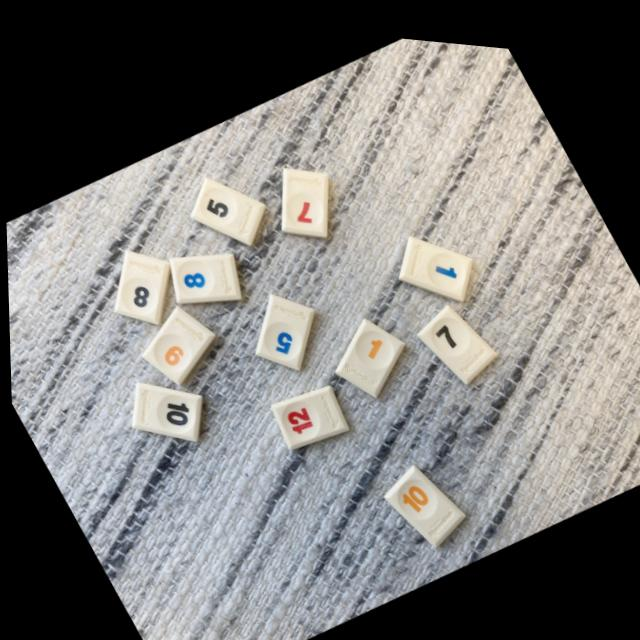black_10: (130, 380, 200, 437)
black_5: (190, 173, 265, 241)
black_7: (417, 297, 496, 375)
black_8: (114, 249, 169, 320)
blue_1: (399, 228, 472, 292)
blue_5: (251, 289, 313, 364)
blue_8: (168, 249, 240, 300)
orange_1: (335, 311, 403, 390)
orange_10: (383, 457, 463, 538)
orange_9: (141, 303, 213, 381)
red_12: (269, 379, 347, 444)
red_7: (281, 162, 327, 231)
